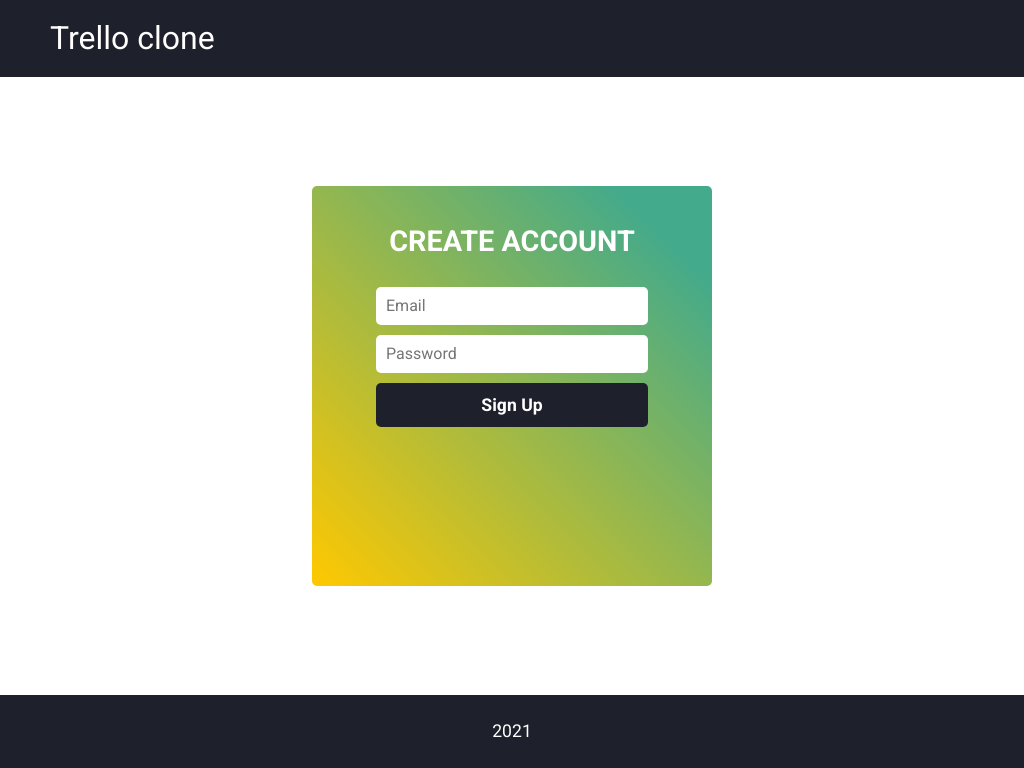
Renders Sign up Screen › attempts to sign up with empty inputs
Click the button "Sign Up".
click(512, 405)  # box [376,383,648,427]
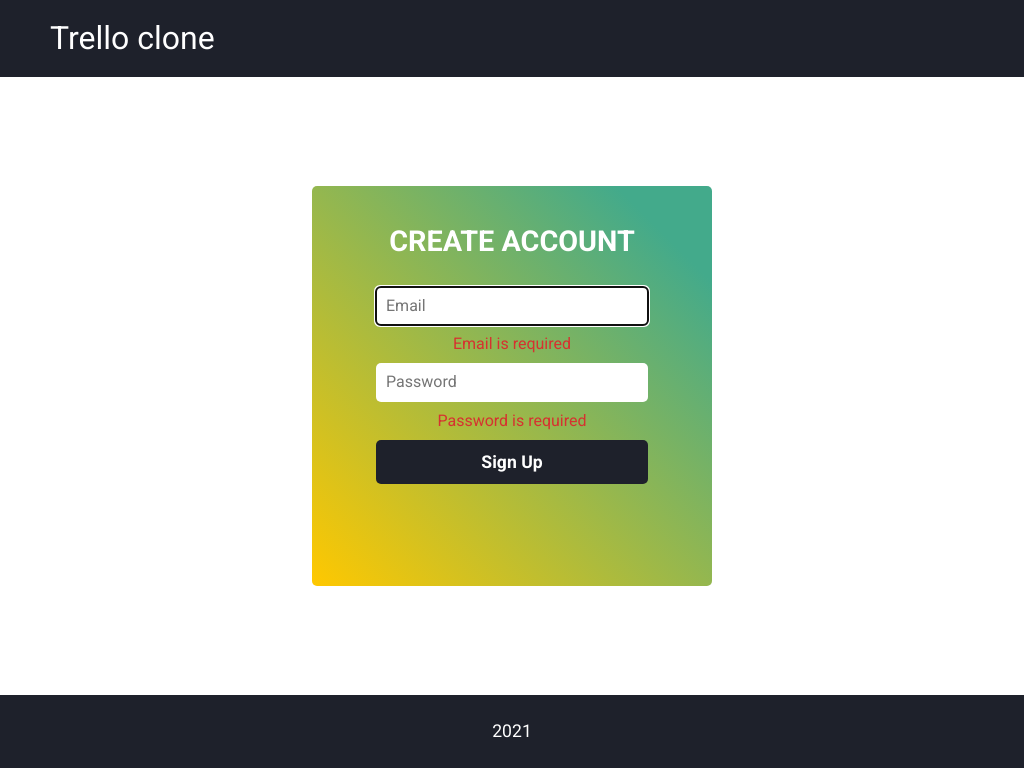
Expected: the number of messages is 2, [453,334,571,353]; [437,411,586,430]
